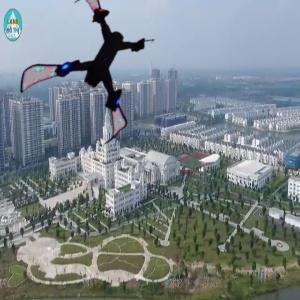drone: (33, 9, 163, 139)
